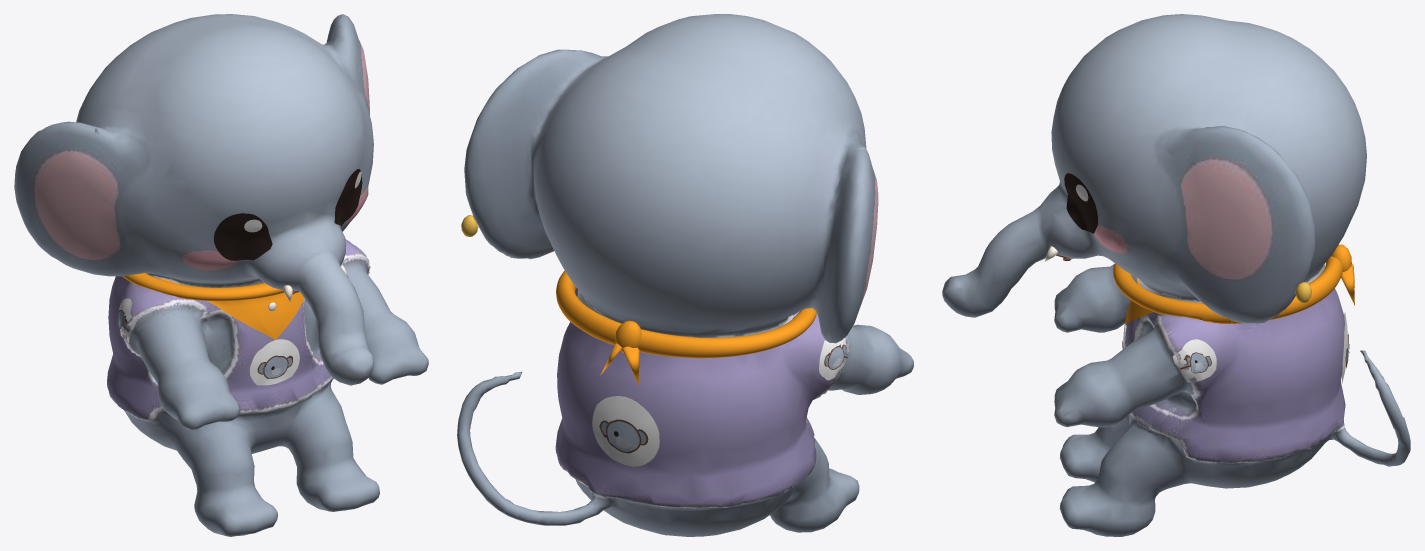
File: elephant.glb
3 views of the same model, side by side, from view 1: azimuth 30°, elevation 25°; view 2: azimuth 150°, elevation 25°; view 3: azimuth 270°, elevation 25° (orthographic). The views are drawn at different scales.
Parts seen in each view (by area): view 1: chibi, face; view 2: chibi, face; view 3: chibi, face.
Part boxes in pixels (left/top/right/bottom): chibi: left=14, top=14, right=428, bottom=536; face: left=118, top=169, right=369, bottom=385; chibi: left=457, top=14, right=913, bottom=536; face: left=461, top=215, right=848, bottom=466; chibi: left=942, top=14, right=1410, bottom=536; face: left=1044, top=173, right=1354, bottom=382.
Size of the model in its own units: 0.8871 by 1.12 by 1.
29 materials, 1 textured.
